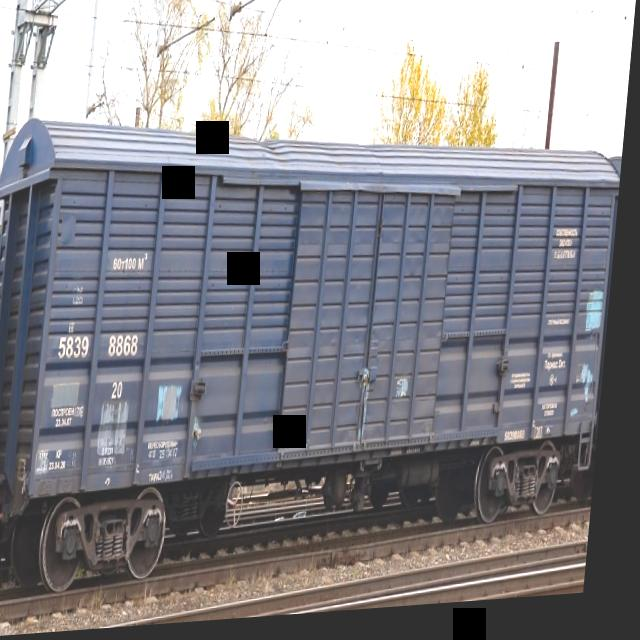boxcar: (0, 60, 633, 608)
